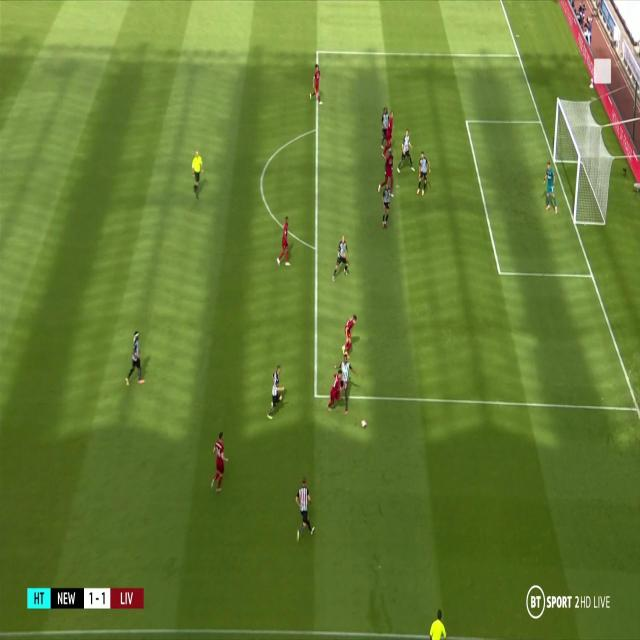ball: (359, 418, 368, 428)
player: (293, 473, 316, 544), (125, 328, 148, 387), (209, 431, 228, 492), (266, 363, 286, 418), (331, 232, 352, 282), (339, 349, 355, 410), (276, 214, 294, 267), (191, 149, 207, 204), (542, 160, 558, 215), (398, 126, 416, 174), (414, 149, 432, 194), (340, 313, 358, 352), (326, 368, 343, 409), (309, 61, 325, 103), (379, 152, 395, 193), (384, 110, 395, 158), (380, 186, 392, 227), (379, 107, 391, 147), (430, 607, 446, 636)
